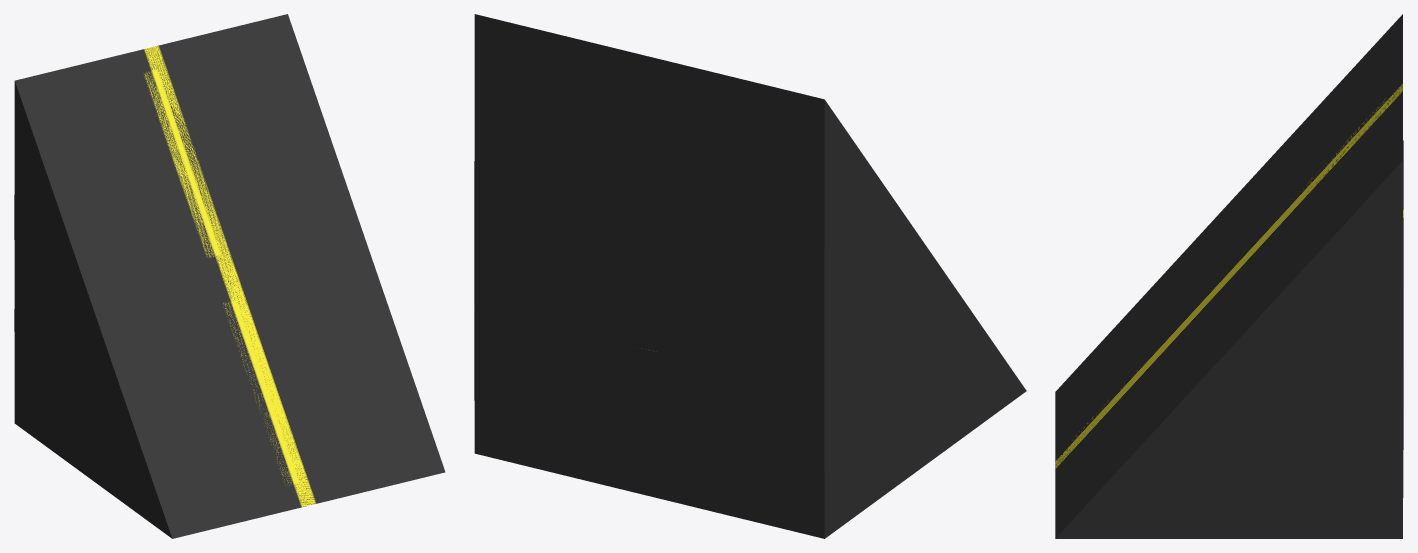
Rendered from Inclinados.fbx.
3 views of the same model, side by side, from view 1: azimuth 30°, elevation 25°; view 2: azimuth 150°, elevation 25°; view 3: azimuth 270°, elevation 25° (orthographic). The views are drawn at different scales.
Visible parts, largest first — view 1: AsfaltoCont.Incli 12x, AsfaltoPontilhado.Incli 12x, AsfaltoCont-Incli 8x, AsfaltoCont-Incli 4x, AsfaltoPontilhado.Incli 8x, AsfaltoPontilhado.Incli 4x; view 2: AsfaltoCont.Incli 12x, AsfaltoCont-Incli 8x, AsfaltoCont-Incli 4x, AsfaltoPontilhado.Incli 12x, AsfaltoPontilhado.Incli 4x, AsfaltoPontilhado.Incli 8x; view 3: AsfaltoCont.Incli 12x, AsfaltoCont-Incli 8x, AsfaltoPontilhado.Incli 12x, AsfaltoPontilhado.Incli 4x, AsfaltoPontilhado.Incli 8x.
Boxes of the visible parts, box(x1,y1,x2,y2) form: AsfaltoCont.Incli 12x: box(14, 14, 445, 538); AsfaltoPontilhado.Incli 12x: box(14, 14, 444, 538); AsfaltoCont-Incli 8x: box(14, 195, 171, 537); AsfaltoCont-Incli 4x: box(14, 309, 170, 537); AsfaltoPontilhado.Incli 8x: box(14, 279, 168, 531); AsfaltoPontilhado.Incli 4x: box(15, 349, 169, 535); AsfaltoCont.Incli 12x: box(474, 14, 1026, 538); AsfaltoCont-Incli 8x: box(474, 161, 1026, 537); AsfaltoCont-Incli 4x: box(474, 307, 1024, 538); AsfaltoPontilhado.Incli 12x: box(474, 14, 1022, 534); AsfaltoPontilhado.Incli 4x: box(825, 391, 1021, 537); AsfaltoPontilhado.Incli 8x: box(676, 210, 1018, 536); AsfaltoCont.Incli 12x: box(1055, 14, 1402, 538); AsfaltoCont-Incli 8x: box(1057, 140, 1403, 538); AsfaltoPontilhado.Incli 12x: box(1055, 14, 1402, 538); AsfaltoPontilhado.Incli 4x: box(1081, 415, 1402, 538); AsfaltoPontilhado.Incli 8x: box(1070, 290, 1402, 538).
Size of the model in its own units: 1000 by 1200 by 1003.
